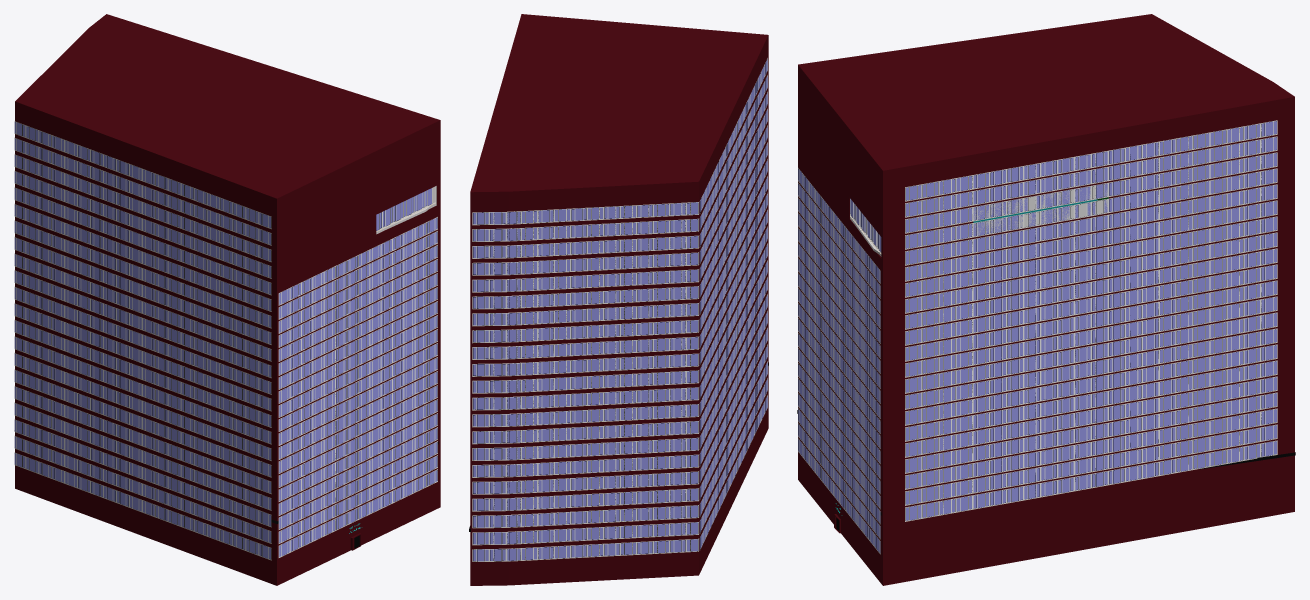
File: 22KensingtonBoulevard.fbx
3 views of the same model, side by side, from view 1: azimuth 30°, elevation 25°; view 2: azimuth 150°, elevation 25°; view 3: azimuth 270°, elevation 25° (orthographic). The views are drawn at different scales.
Parts seen in each view (by area): view 1: 22KensingtonBoulevard, Window.004, Window.001, Window; view 2: 22KensingtonBoulevard, Window.003, Window.004; view 3: 22KensingtonBoulevard, Window.002, Window.001.
Part boxes in pixels (bbox=[...]): 22KensingtonBoulevard: bbox=[15, 14, 440, 585]; Window.004: bbox=[14, 121, 271, 560]; Window.001: bbox=[278, 217, 437, 557]; Window: bbox=[376, 186, 435, 232]; 22KensingtonBoulevard: bbox=[470, 14, 768, 585]; Window.003: bbox=[472, 202, 698, 561]; Window.004: bbox=[699, 58, 767, 550]; 22KensingtonBoulevard: bbox=[798, 14, 1294, 585]; Window.002: bbox=[905, 120, 1277, 521]; Window.001: bbox=[798, 168, 880, 554].
Size of the model in its own units: 5035 by 6205 by 6749.
